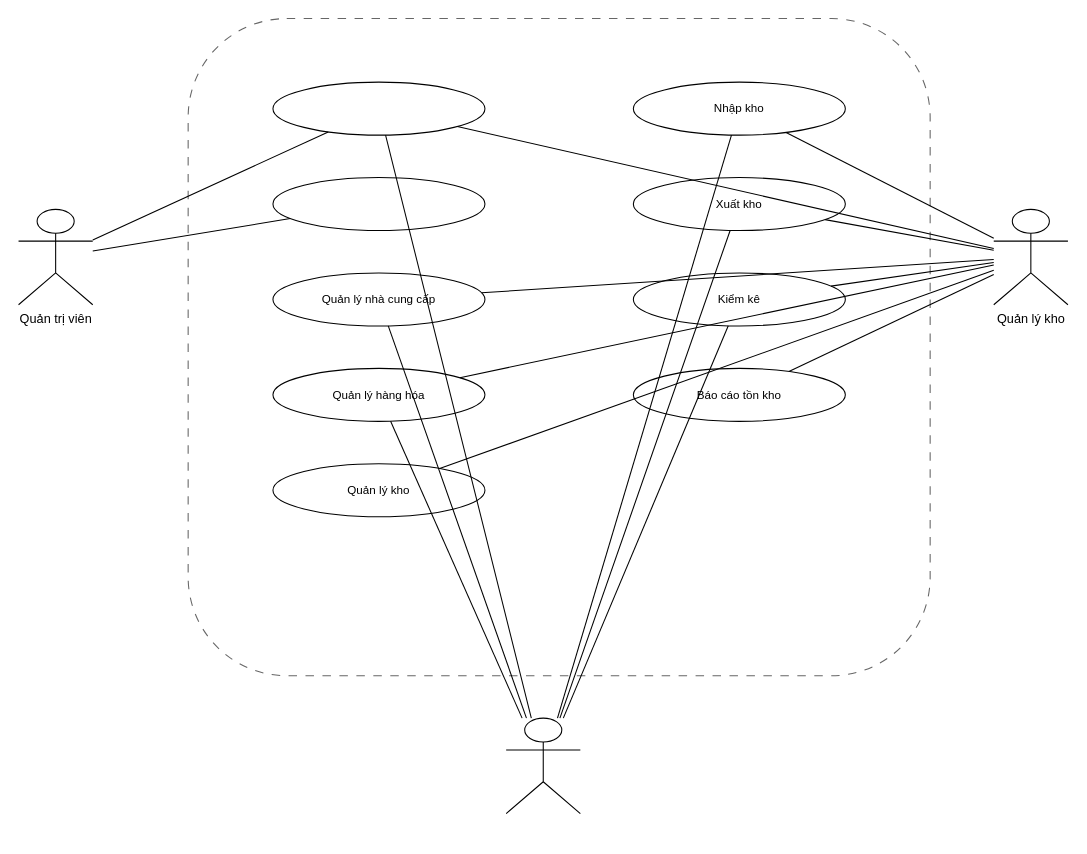
This 1087x854 diagram has some shape labels left out. The box of each missing label's shape, as (x1, y1, x2, y2) in pixels:
Hệ thống quản lý kho hàng (use case tổng quát — không có KH): (187, 17, 930, 676)
Nhân viên kho: (505, 717, 580, 814)
Quản lý tài khoản: (272, 176, 485, 231)
Đăng nhập / Đăng xuất: (272, 81, 485, 135)
